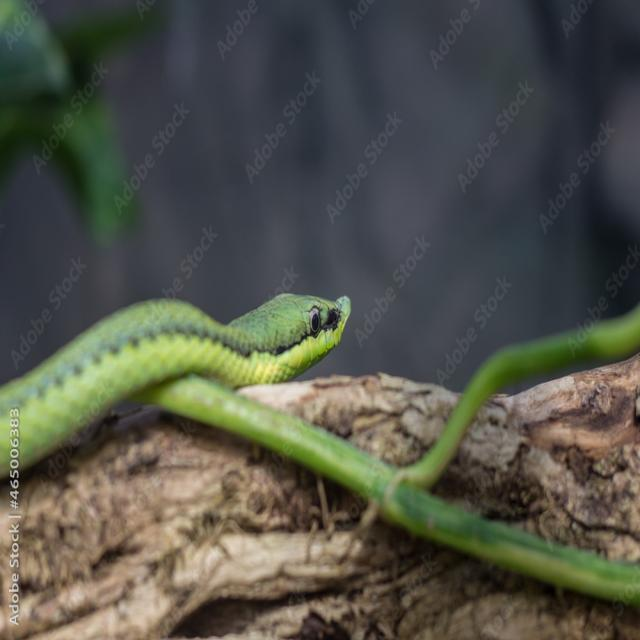Snake: (24, 250, 374, 492)
